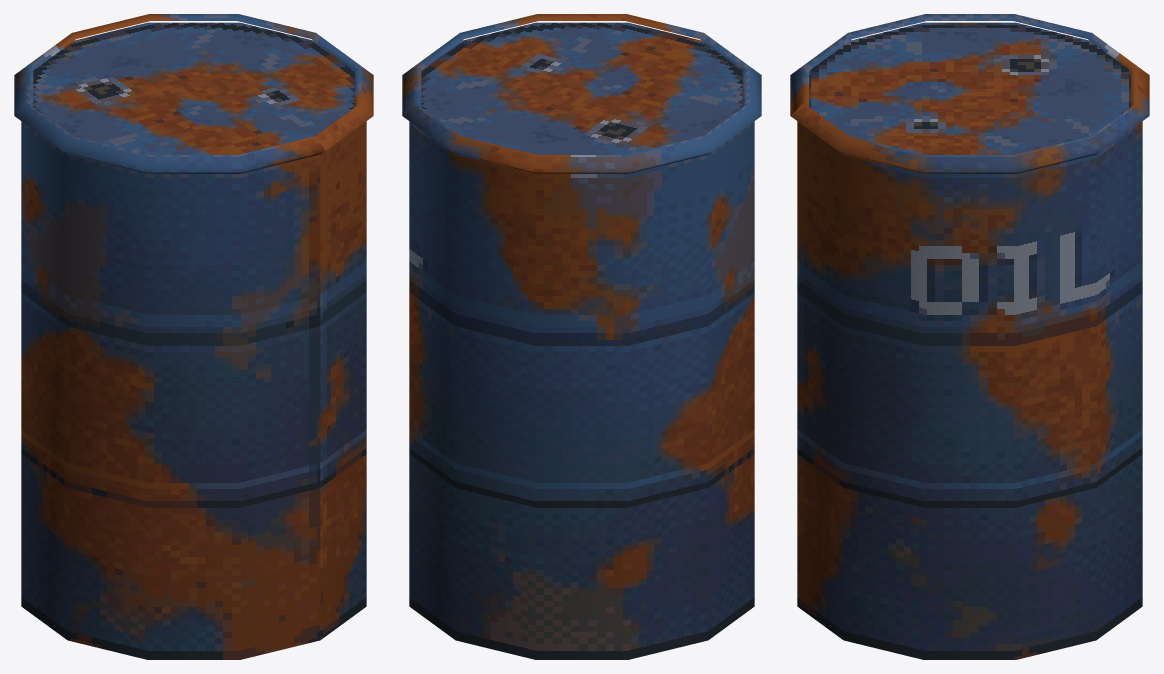
The model's file is drum_oil_rusty.glb.
3 renders of one model, left to right at view 1: azimuth 30°, elevation 25°; view 2: azimuth 150°, elevation 25°; view 3: azimuth 270°, elevation 25°, orthographic.
Visible parts, largest first — view 1: drum_oil_rusty; view 2: drum_oil_rusty; view 3: drum_oil_rusty.
Boxes of the visible parts, x1,y1,x2,y2 form: drum_oil_rusty: [14, 14, 373, 659]; drum_oil_rusty: [402, 14, 761, 659]; drum_oil_rusty: [790, 14, 1149, 659].
Bounding box in the file's own units: 0.5834 × 0.9 × 0.5834.
Materials: 1 (1 with a texture image).
